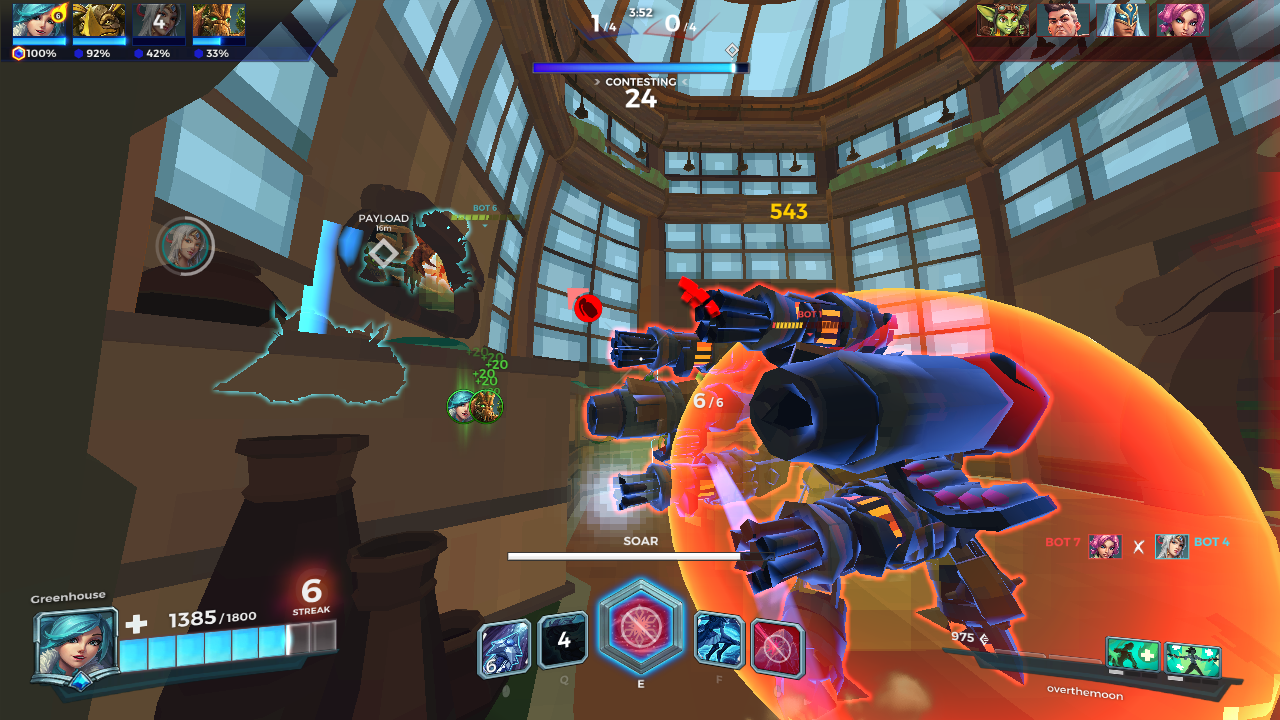model: (606, 279, 1040, 692)
